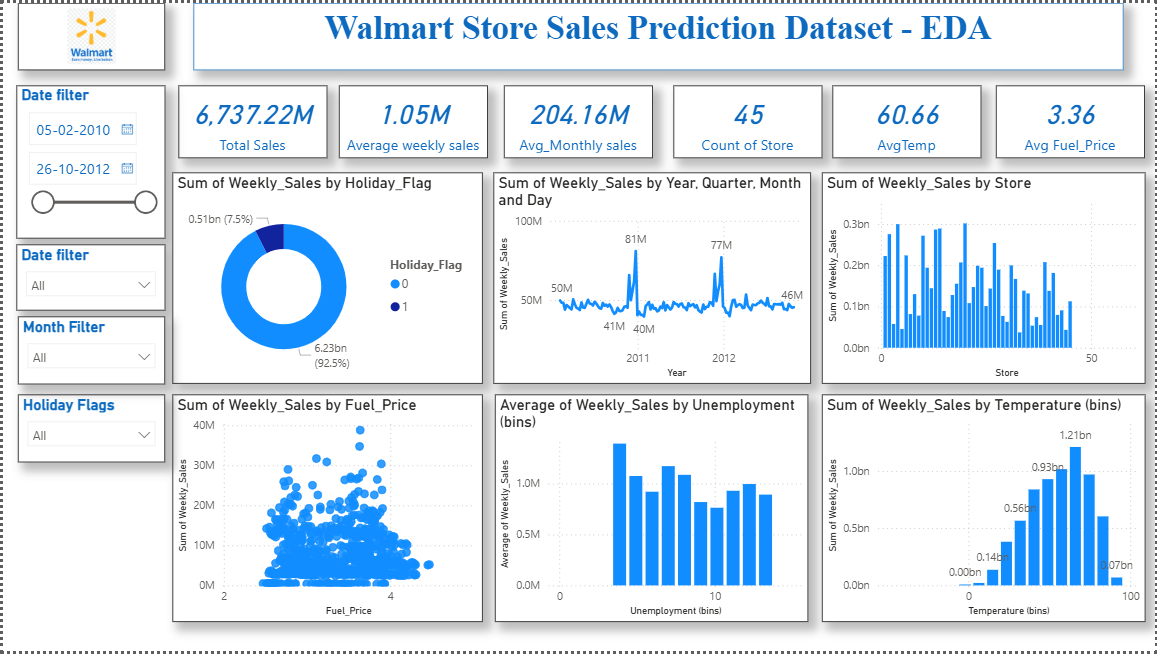

This screenshot's page, from the dashboard's own definition file:
{"tool":"powerbi","page":{"name":"Page 1","canvas":[1280,720],"ordinal":0},"visuals":[{"type":"textbox","box":[212.1,0,1033.1,74.5],"z":0},{"type":"image","box":[16.2,0,163.5,74.5],"z":1000},{"type":"card","fields":{"Values":["Sum(Walmart.Weekly_Sales)"]},"box":[194.3,92.3,165.2,81],"z":2000},{"type":"card","fields":{"Values":["Avg(Walmart.Weekly_Sales)"]},"box":[374,92.3,165.2,81],"z":3000},{"type":"slicer","title":"Date filter","fields":{"Values":["Walmart.Date"]},"box":[15,91.7,165,170],"z":4000},{"type":"card","fields":{"Values":["Walmart.Average_Monthly_Sales"]},"box":[557,92.3,165.2,81],"z":5000},{"type":"card","fields":{"Values":["Count(Walmart.Store)"]},"box":[744.8,92.3,165.2,81],"z":6000},{"type":"card","fields":{"Values":["Avg(Walmart.Temperature)"]},"box":[921.3,92.3,165.2,81],"z":7000},{"type":"card","fields":{"Values":["Avg(Walmart.Fuel_Price)"]},"box":[1102.7,92.3,165.2,81],"z":8000},{"type":"slicer","title":"Date filter","fields":{"Values":["Walmart.Date.Variation.Date Hierarchy.Year"]},"box":[15,268.3,165,73.3],"z":9000},{"type":"donutChart","fields":{"Category":["Walmart.Holiday_Flag"],"Y":["Sum(Walmart.Weekly_Sales)"]},"box":[187.8,187.8,344.9,234.8],"z":10000},{"type":"scatterChart","fields":{"X":["Walmart.Fuel_Price"],"Y":["Sum(Walmart.Weekly_Sales)"]},"box":[187.8,435.6,344.9,252.6],"z":11000},{"type":"lineChart","fields":{"Y":["Sum(Walmart.Weekly_Sales)"],"Category":["Walmart.Date.Variation.Date Hierarchy.Year","Walmart.Date.Variation.Date Hierarchy.Quarter","Walmart.Date.Variation.Date Hierarchy.Month","Walmart.Date.Variation.Date Hierarchy.Day"]},"box":[545.7,187.8,353,234.8],"z":12000},{"type":"clusteredColumnChart","fields":{"Y":["Sum(Walmart.Weekly_Sales)"],"Category":["Walmart.Store"]},"box":[910,187.8,359.5,234.8],"z":13000},{"type":"columnChart","fields":{"Category":["Walmart.Unemployment (bins)"],"Y":["Avg(Walmart.Weekly_Sales)"]},"box":[547.3,435.6,348.1,252.6],"z":14000},{"type":"columnChart","fields":{"Y":["Sum(Walmart.Weekly_Sales)"],"Category":["Walmart.Temperature (bins)"]},"box":[910,435.6,359.5,252.6],"z":15000},{"type":"slicer","title":"Holiday Flags","fields":{"Values":["Walmart.Holiday_Flag"]},"box":[16.7,435,163.3,75],"z":16000},{"type":"slicer","title":"Month Filter","fields":{"Values":["Walmart.Date.Variation.Date Hierarchy.Month"]},"box":[16.7,348.3,163.3,75],"z":16001}]}

Visuals, with their boxes in screenshot pixels (x1, y1, x2, y2), scaled from the page's 1280x720 canvas onto the 1157x655 screenshot:
textbox: Rect(192, 0, 1126, 68)
image: Rect(15, 0, 162, 68)
card - Sum(Walmart.Weekly_Sales): Rect(176, 84, 325, 158)
card - Avg(Walmart.Weekly_Sales): Rect(338, 84, 487, 158)
"Date filter" slicer: Rect(14, 83, 163, 238)
card - Walmart.Average_Monthly_Sales: Rect(503, 84, 653, 158)
card - Count(Walmart.Store): Rect(673, 84, 823, 158)
card - Avg(Walmart.Temperature): Rect(833, 84, 982, 158)
card - Avg(Walmart.Fuel_Price): Rect(997, 84, 1146, 158)
"Date filter" slicer: Rect(14, 244, 163, 311)
donutChart - Walmart.Holiday_Flag x Sum(Walmart.Weekly_Sales): Rect(170, 171, 482, 384)
scatterChart - Walmart.Fuel_Price x Sum(Walmart.Weekly_Sales): Rect(170, 396, 482, 626)
lineChart - Sum(Walmart.Weekly_Sales) x Walmart.Date.Variation.Date Hierarchy.Year: Rect(493, 171, 812, 384)
clusteredColumnChart - Sum(Walmart.Weekly_Sales) x Walmart.Store: Rect(823, 171, 1148, 384)
columnChart - Walmart.Unemployment (bins) x Avg(Walmart.Weekly_Sales): Rect(495, 396, 809, 626)
columnChart - Sum(Walmart.Weekly_Sales) x Walmart.Temperature (bins): Rect(823, 396, 1148, 626)
"Holiday Flags" slicer: Rect(15, 396, 163, 464)
"Month Filter" slicer: Rect(15, 317, 163, 385)
